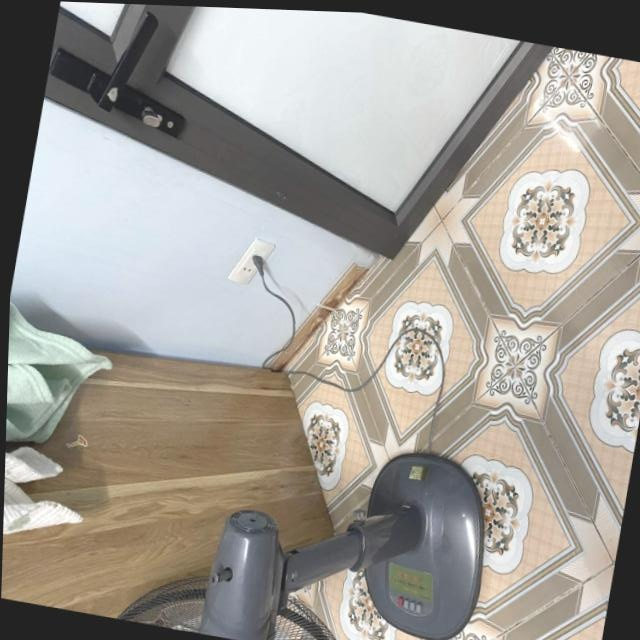outlet: (226, 233, 277, 290)
